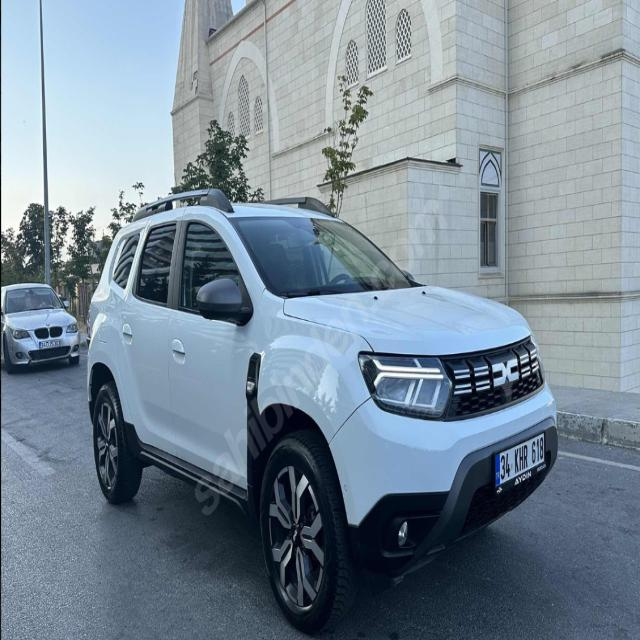dacia: (491, 356, 522, 392)
